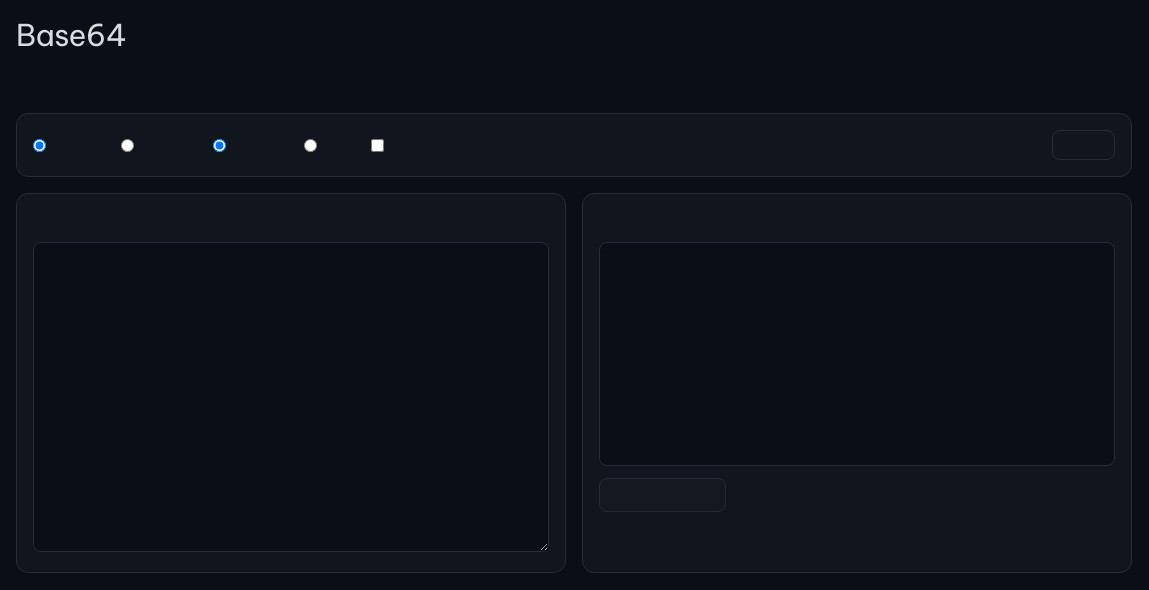
Test: Base64 tool › exposes local-file and cancellation controls in both languages
Expected: the heading "Base64" is shown, [16, 16, 126, 54]
Step 1. Click the radio button labelled "Tệp" → (310, 145), box [304, 138, 317, 152]
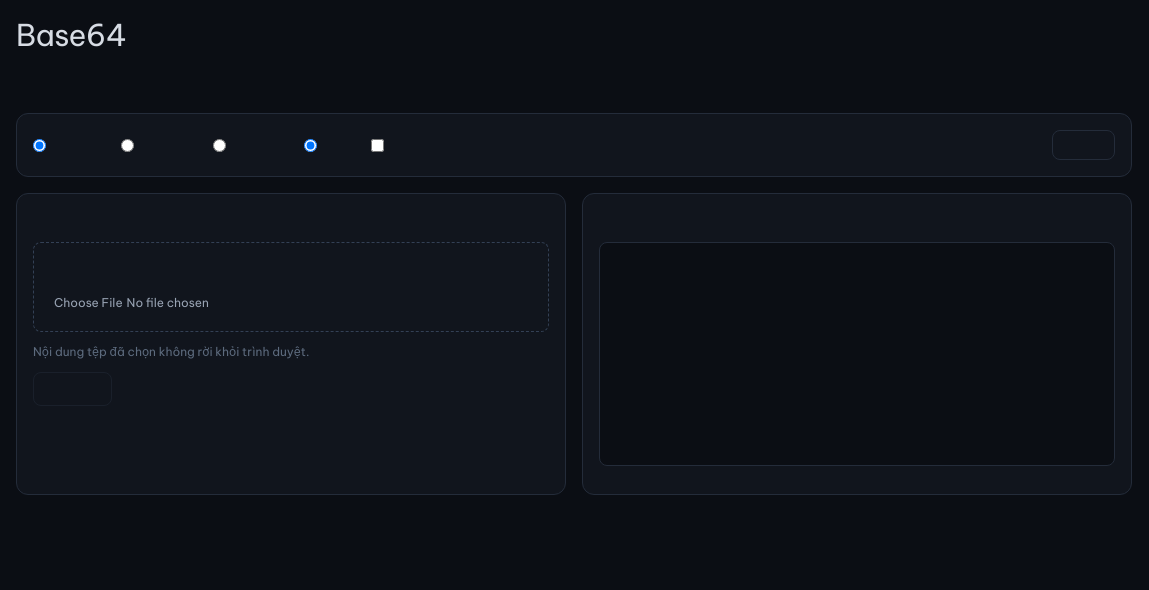
Result: the text "Nội dung tệp đã chọn không rời khỏi trình duyệt." is shown at [33, 344, 309, 359]
